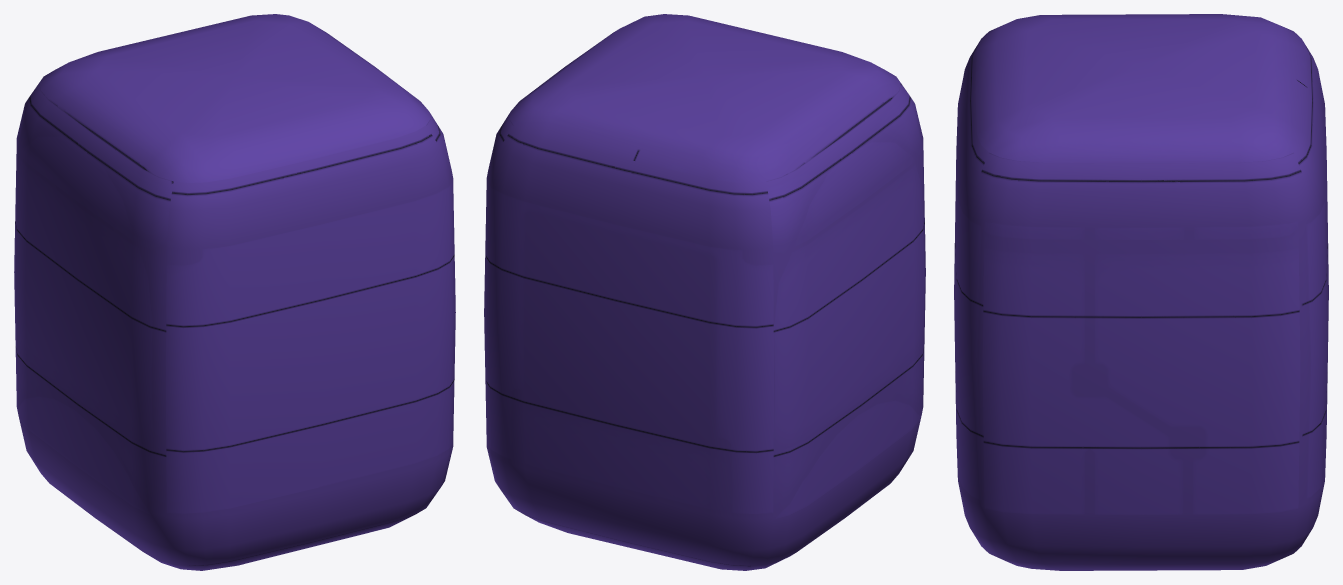
Rendered from Estela_MusloIzq.fbx.
The picture shows the model from 3 angles, left to right: view 1: azimuth 30°, elevation 25°; view 2: azimuth 150°, elevation 25°; view 3: azimuth 270°, elevation 25°; orthographic projection. The views are drawn at different scales.
Visible parts, largest first — view 1: Estela_MusloIzq; view 2: Estela_MusloIzq; view 3: Estela_MusloIzq.
Boxes of the visible parts, <box> form: Estela_MusloIzq: <box>14,14,455,570</box>; Estela_MusloIzq: <box>484,14,925,570</box>; Estela_MusloIzq: <box>954,14,1328,570</box>.
Bounding box in the file's own units: 1.06 × 1.39 × 1.04.
